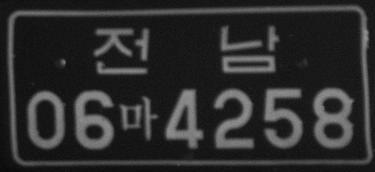0: (25, 88, 66, 151)
2: (212, 87, 256, 150)
4: (163, 87, 204, 150)
5: (262, 87, 304, 150)
6: (72, 89, 116, 151)
8: (312, 86, 354, 150)
마: (119, 94, 158, 142)
전남_D: (93, 24, 280, 75)
